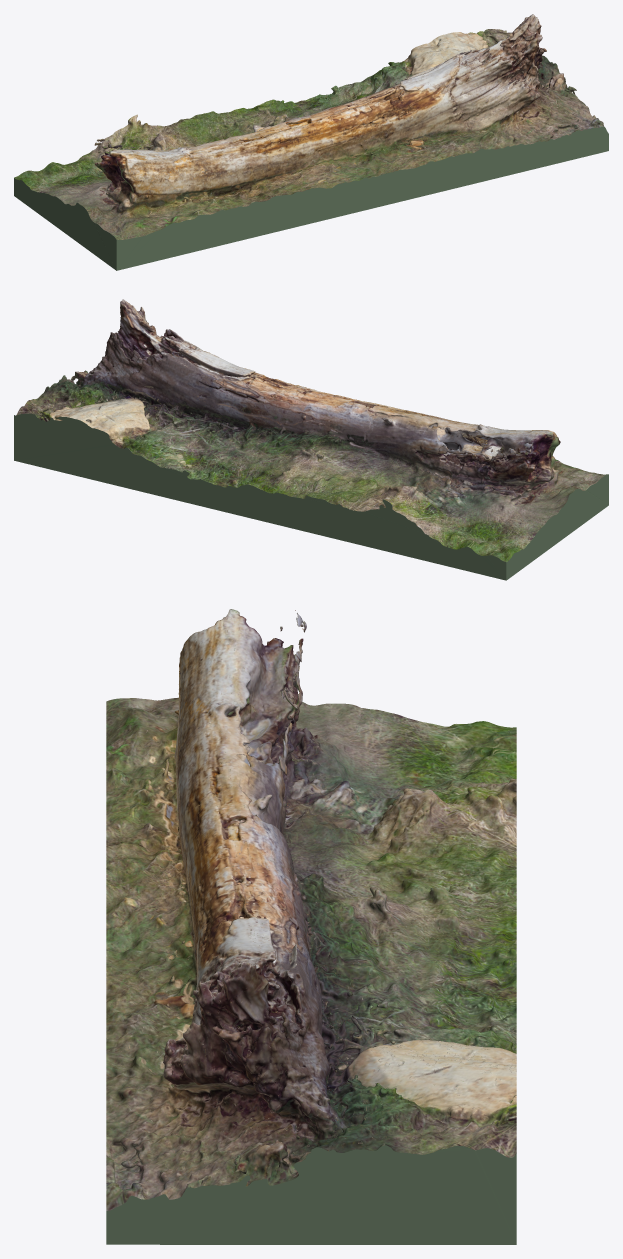
The model's file is tree_trunk_-_viana.glb.
3 renders of one model, top to bottom at view 1: azimuth 30°, elevation 25°; view 2: azimuth 150°, elevation 25°; view 3: azimuth 270°, elevation 25°, orthographic. The views are drawn at different scales.
Visible parts, largest first — view 1: Object_3, Object_8, Object_5, Object_6, Object_4, Object_7; view 2: Object_4, Object_8, Object_3, Object_5, Object_6, Object_7; view 3: Object_3, Object_4, Object_5, Object_6, Object_8, Object_7.
Boxes of the visible parts, bbox=[...] form: Object_3: bbox=[14, 29, 604, 239]; Object_8: bbox=[14, 108, 608, 270]; Object_5: bbox=[16, 18, 601, 238]; Object_6: bbox=[97, 14, 601, 205]; Object_4: bbox=[195, 31, 516, 209]; Object_7: bbox=[182, 108, 255, 217]; Object_4: bbox=[38, 330, 430, 493]; Object_8: bbox=[14, 413, 608, 580]; Object_3: bbox=[16, 370, 606, 562]; Object_5: bbox=[21, 302, 603, 561]; Object_6: bbox=[23, 299, 533, 492]; Object_7: bbox=[268, 415, 474, 496]; Object_3: bbox=[106, 609, 516, 1210]; Object_4: bbox=[106, 754, 516, 1127]; Object_5: bbox=[106, 609, 516, 1210]; Object_6: bbox=[106, 610, 516, 1204]; Object_8: bbox=[106, 1011, 516, 1244]; Object_7: bbox=[107, 723, 516, 937].
Size of the model in its own units: 2.66 by 0.6263 by 0.9608.
Materials: 2 (1 with a texture image).
